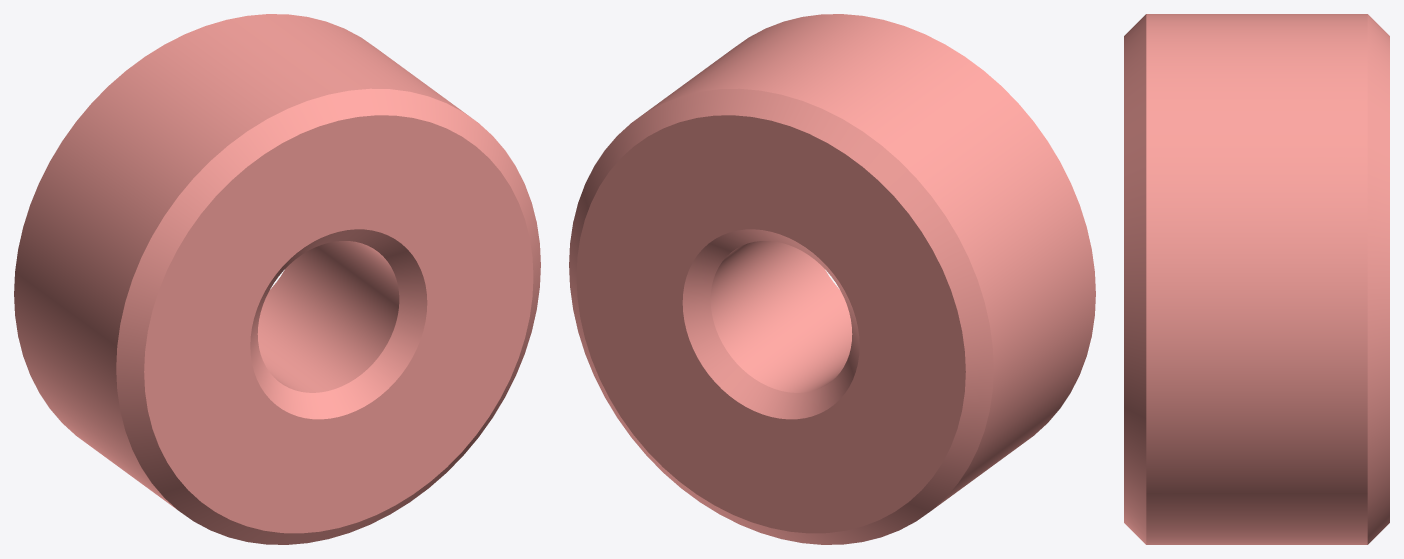
The model's file is part 6 bushing 1.fbx.
3 views of the same model, side by side, from view 1: azimuth 30°, elevation 25°; view 2: azimuth 150°, elevation 25°; view 3: azimuth 270°, elevation 25° (orthographic). The views are drawn at different scales.
Parts seen in each view (by area): view 1: Default; view 2: Default; view 3: Default.
Part boxes in pixels (x1,y1,x2,y2): Default: (14, 14, 540, 544); Default: (569, 14, 1095, 544); Default: (1124, 14, 1389, 544).
Bounding box in the file's own units: 2.67 × 2.67 × 1.34.
